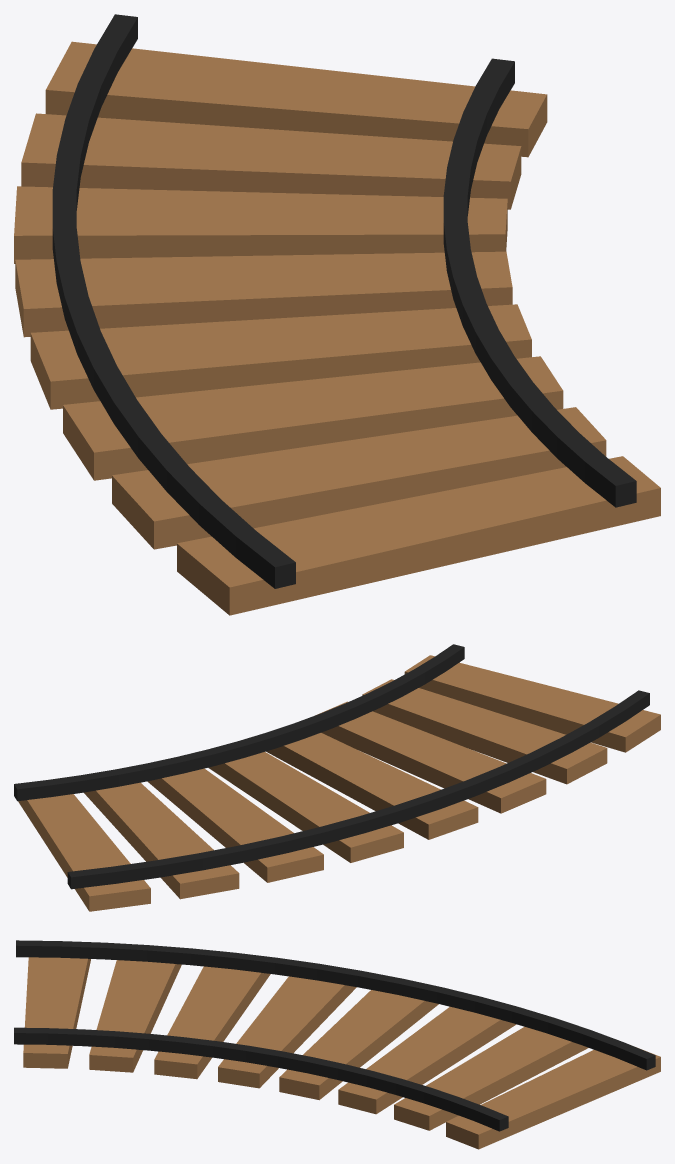
Rendered from mesh_TrainTracksBend.fbx.
3 renders of one model, top to bottom at view 1: azimuth 30°, elevation 25°; view 2: azimuth 150°, elevation 25°; view 3: azimuth 270°, elevation 25°, orthographic. The views are drawn at different scales.
Visible parts, largest first — view 1: TracksBend45; view 2: TracksBend45; view 3: TracksBend45.
Boxes of the visible parts, x1,y1,x2,y2 form: TracksBend45: (14,14,660,615); TracksBend45: (14,644,660,911); TracksBend45: (14,940,660,1149).
Bounding box in the file's own units: 406 × 25.93 × 580.
